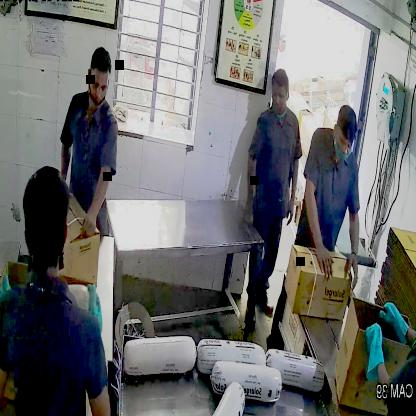no_goggles: (86, 75, 112, 99), (333, 130, 358, 153)
